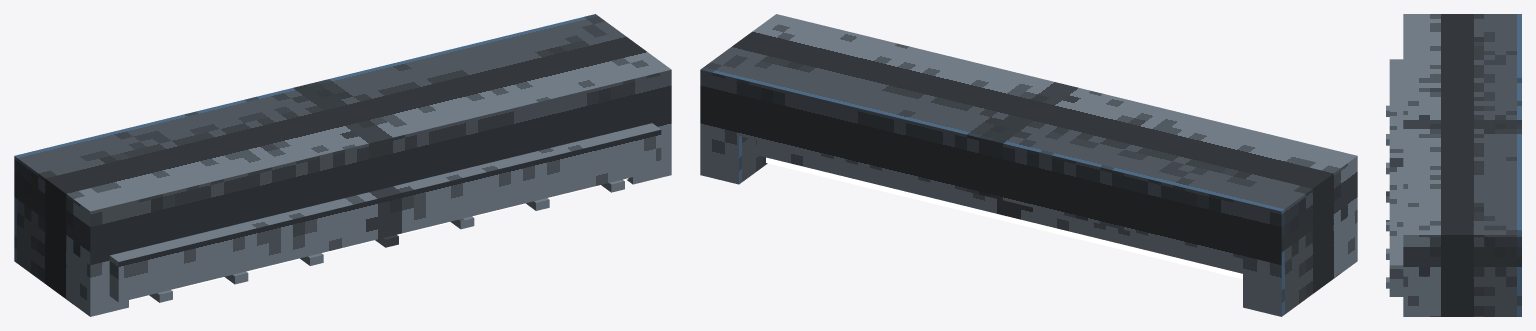
File: arch_light_fixture.glb
The picture shows the model from 3 angles, left to right: view 1: azimuth 30°, elevation 25°; view 2: azimuth 150°, elevation 25°; view 3: azimuth 270°, elevation 25°; orthographic projection. The views are drawn at different scales.
Visible parts, largest first — view 1: arch_light_fixture; view 2: arch_light_fixture; view 3: arch_light_fixture.
Part boxes in pixels (x1,y1,x2,y2): arch_light_fixture: (14,14,671,316); arch_light_fixture: (700,14,1357,316); arch_light_fixture: (1386,14,1521,316).
Bounding box in the file's own units: 1.5 × 0.26 × 0.39.
Materials: 2 (1 with a texture image).
